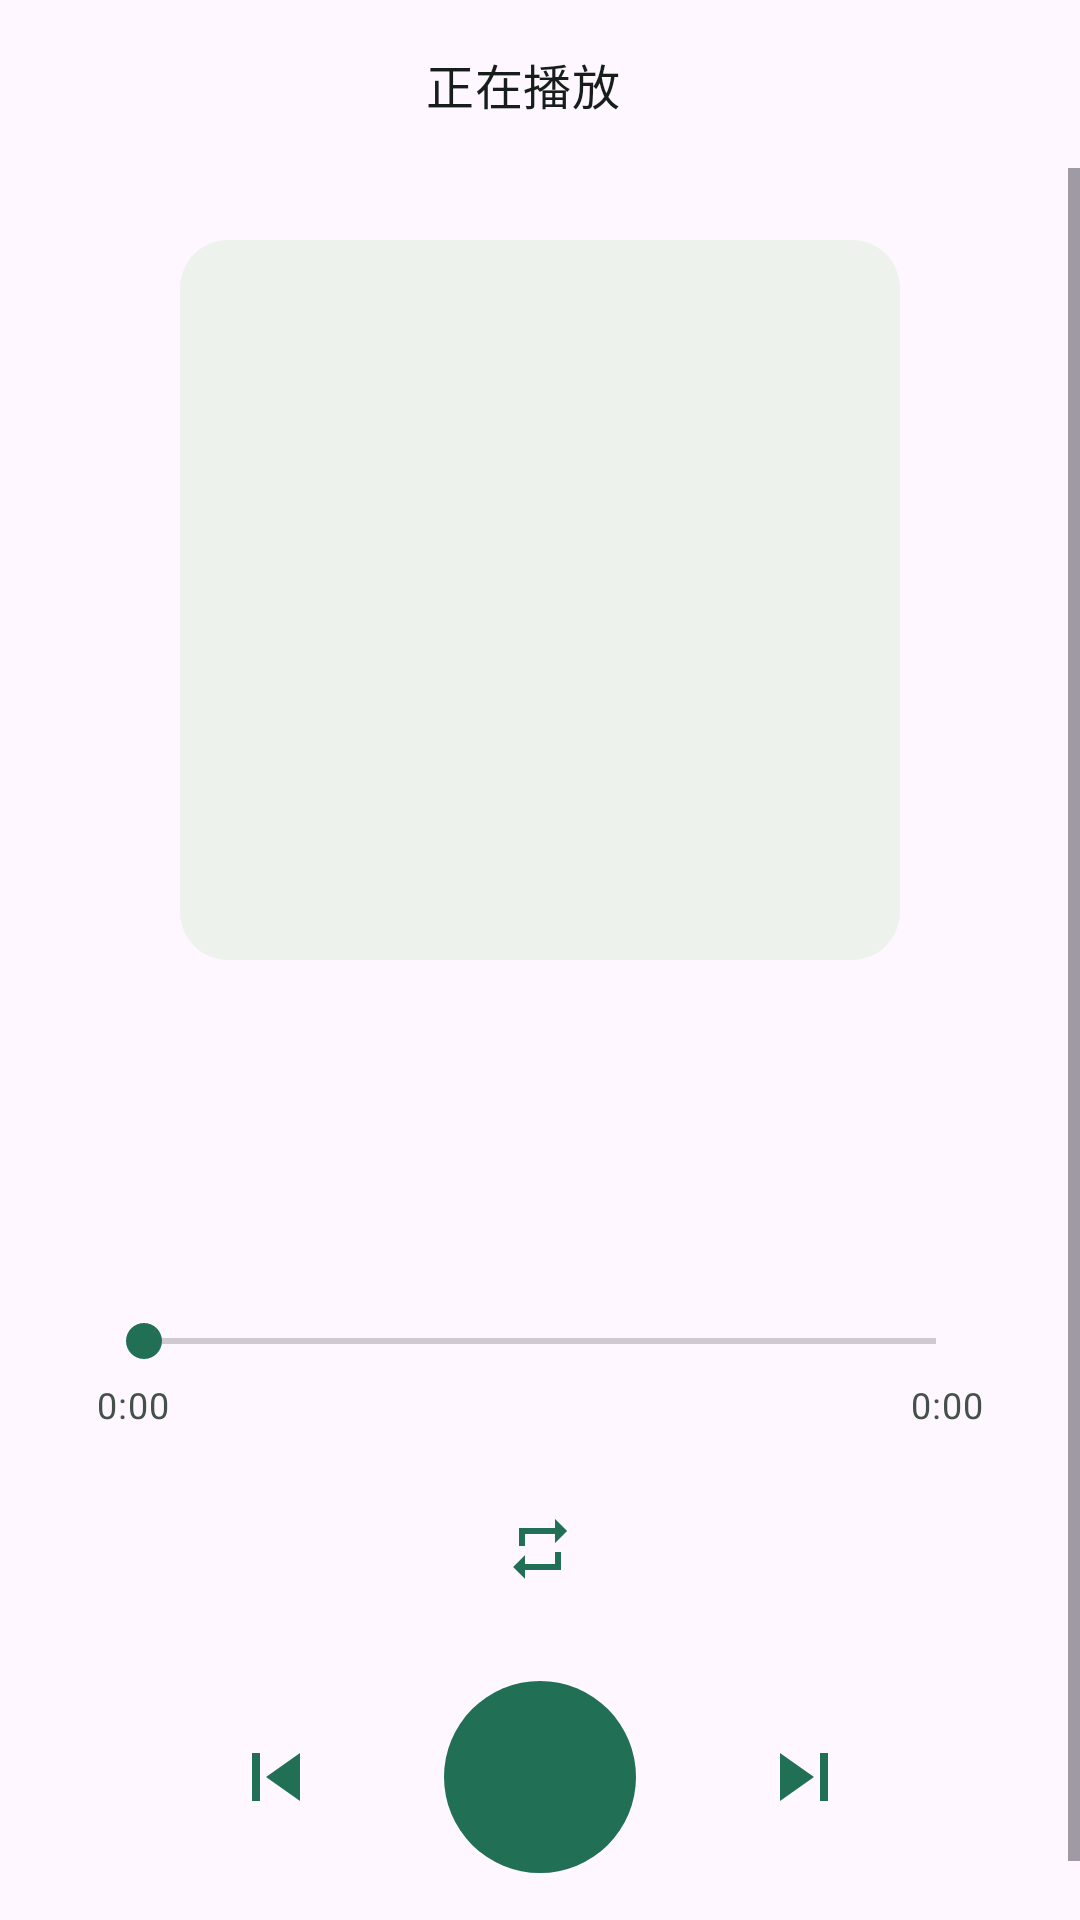

Point at icon controls on the screen. Image size 1080px×1920px, points as [x,y].
上一首: [276,1777]
下一首: [804,1777]
播放模式: [540,1549]
